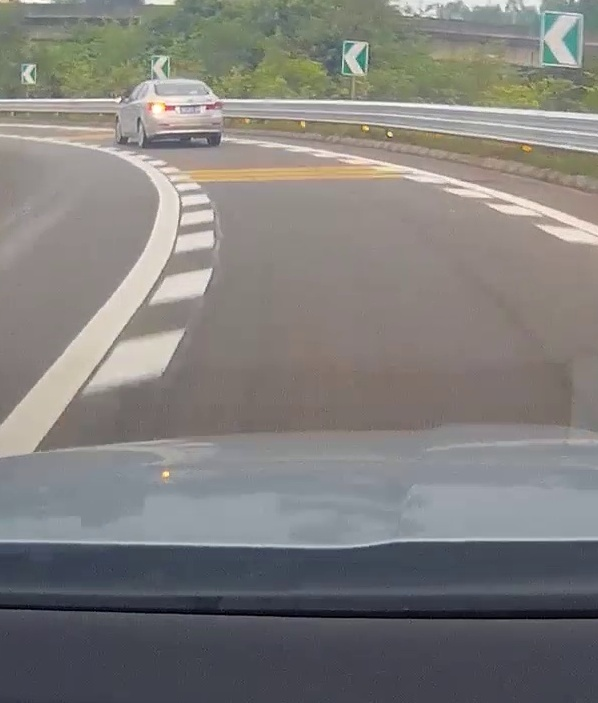L_light: (147, 102, 175, 112)
R_light: (205, 102, 223, 110)
T_light: (176, 83, 187, 86)
day-left: (144, 79, 223, 147)
